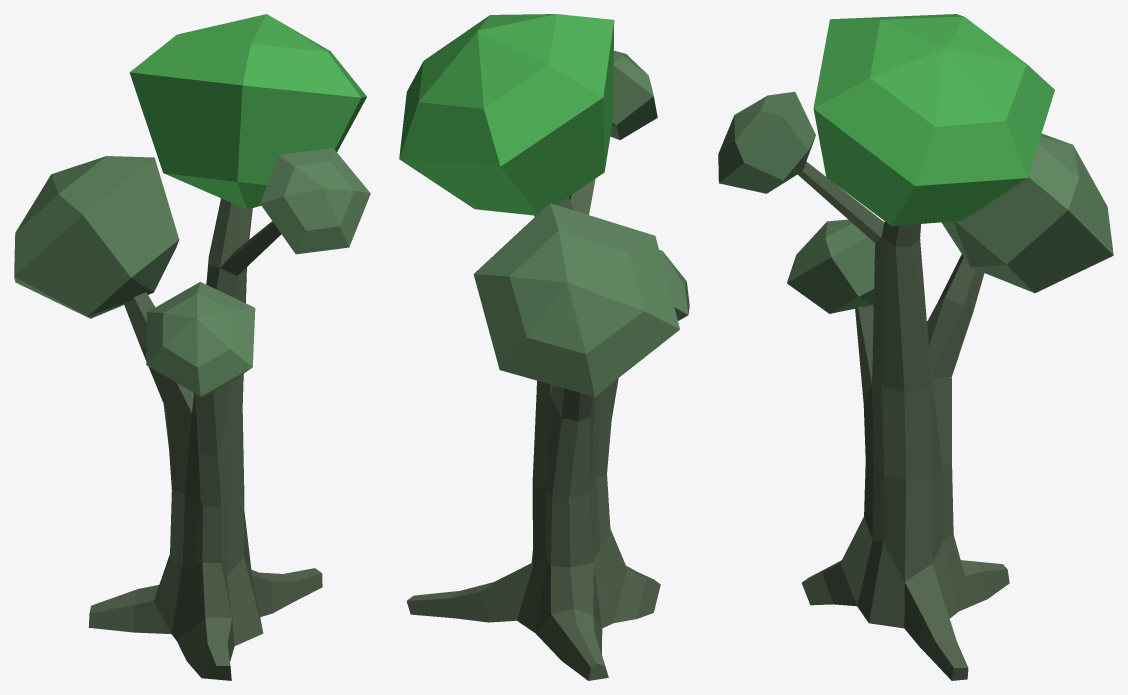
File: bush2.fbx
The picture shows the model from 3 angles, left to right: view 1: azimuth 30°, elevation 25°; view 2: azimuth 150°, elevation 25°; view 3: azimuth 270°, elevation 25°; orthographic projection. The views are drawn at different scales.
Visible parts, largest first — view 1: tree3_2; view 2: tree3_2; view 3: tree3_2.
Boxes of the visible parts, x1,y1,x2,y2 form: tree3_2: [14, 14, 370, 680]; tree3_2: [399, 14, 689, 680]; tree3_2: [718, 14, 1113, 680].
Size of the model in its own units: 178 by 324 by 190.
